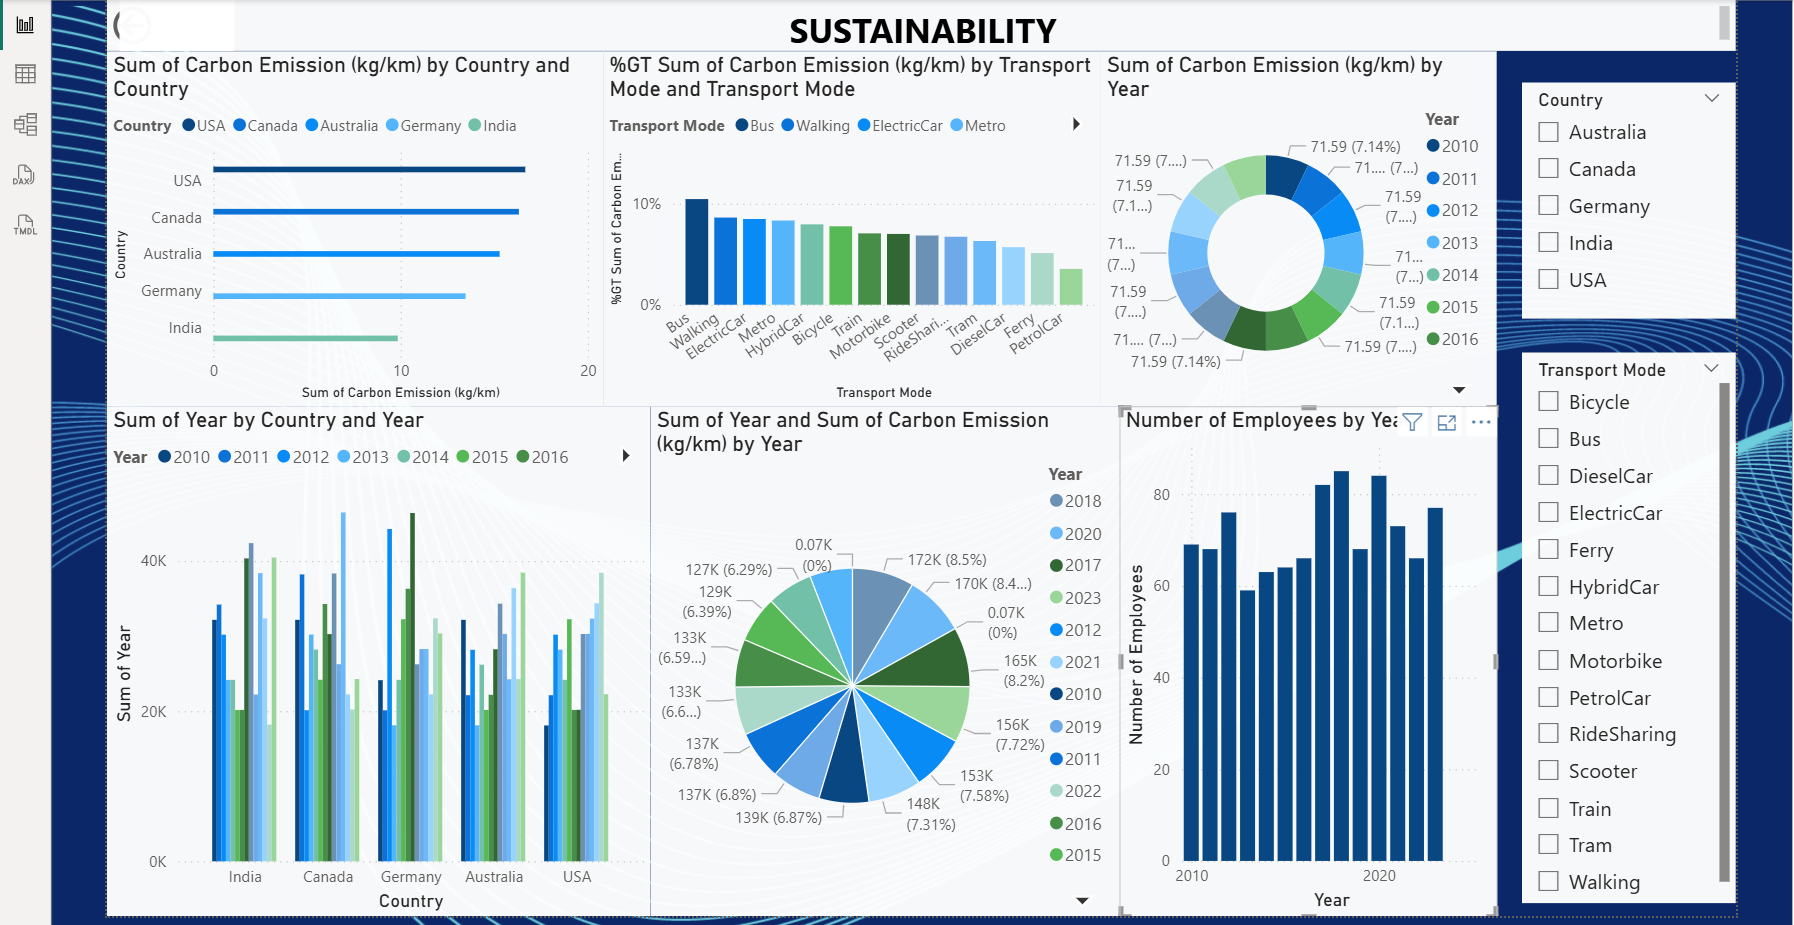

What the dashboard file says about the page in this screenshot:
{"tool":"powerbi","page":{"name":"Page 1","canvas":[1280,720],"ordinal":0},"visuals":[{"type":"clusteredBarChart","fields":{"Category":["Carbon_emission_data.Country"],"Y":["Sum(Carbon_emission_data.Carbon Emission (kg/km))"],"Series":["Carbon_emission_data.Country"]},"box":[0,40,390.1,279.2],"z":0},{"type":"clusteredColumnChart","fields":{"Category":["Employee_transport_data.Country"],"Y":["Sum(Employee_transport_data.Year)"],"Series":["Employee_transport_data.Year"]},"box":[0,319.3,427.1,401.4],"z":1000},{"type":"columnChart","fields":{"Category":["Carbon_emission_data.Transport Mode"],"Y":["Sum(Carbon_emission_data.Carbon Emission (kg/km))"],"Series":["Carbon_emission_data.Transport Mode"]},"box":[390.1,40,391.1,279.2],"z":2000},{"type":"pieChart","fields":{"Y":["Sum(Employee_transport_data.Year)","Sum(Carbon_emission_data.Carbon Emission (kg/km))"],"Category":["Employee_transport_data.Year"]},"box":[427.1,319.3,368.6,401.4],"z":3000},{"type":"donutChart","fields":{"Category":["Employee_transport_data.Year"],"Y":["Sum(Carbon_emission_data.Carbon Emission (kg/km))"]},"box":[781.3,40,311.1,279.2],"z":4000},{"type":"slicer","fields":{"Values":["Employee_transport_data.Country"]},"box":[1111.8,64.7,168.4,185.8],"z":5000},{"type":"actionButton","box":[0,0,100,40],"z":6000},{"type":"slicer","fields":{"Values":["Carbon_emission_data.Transport Mode"]},"box":[1112.1,276.7,167.9,433],"z":7000},{"type":"columnChart","fields":{"Y":["CountNonNull(Employee_transport_data.Employee Name)"],"Category":["Employee_transport_data.Year"]},"box":[795.6,319.3,296.7,401.4],"z":8000},{"type":"textbox","box":[9.5,0,1270.5,40.1],"z":9000}]}

Visuals, with their boxes in screenshot pixels (x1, y1, x2, y2):
clusteredBarChart - Carbon_emission_data.Country x Sum(Carbon_emission_data.Carbon Emission (kg/km)): (103, 55, 597, 409)
clusteredColumnChart - Employee_transport_data.Country x Sum(Employee_transport_data.Year): (103, 409, 644, 918)
columnChart - Carbon_emission_data.Transport Mode x Sum(Carbon_emission_data.Carbon Emission (kg/km)): (597, 55, 1093, 409)
pieChart - Sum(Employee_transport_data.Year) x Sum(Carbon_emission_data.Carbon Emission (kg/km)): (644, 409, 1111, 918)
donutChart - Employee_transport_data.Year x Sum(Carbon_emission_data.Carbon Emission (kg/km)): (1093, 55, 1487, 409)
slicer - Employee_transport_data.Country: (1511, 87, 1725, 322)
actionButton: (103, 5, 229, 55)
slicer - Carbon_emission_data.Transport Mode: (1512, 355, 1725, 904)
columnChart - CountNonNull(Employee_transport_data.Employee Name) x Employee_transport_data.Year: (1111, 409, 1487, 918)
textbox: (115, 5, 1725, 55)
